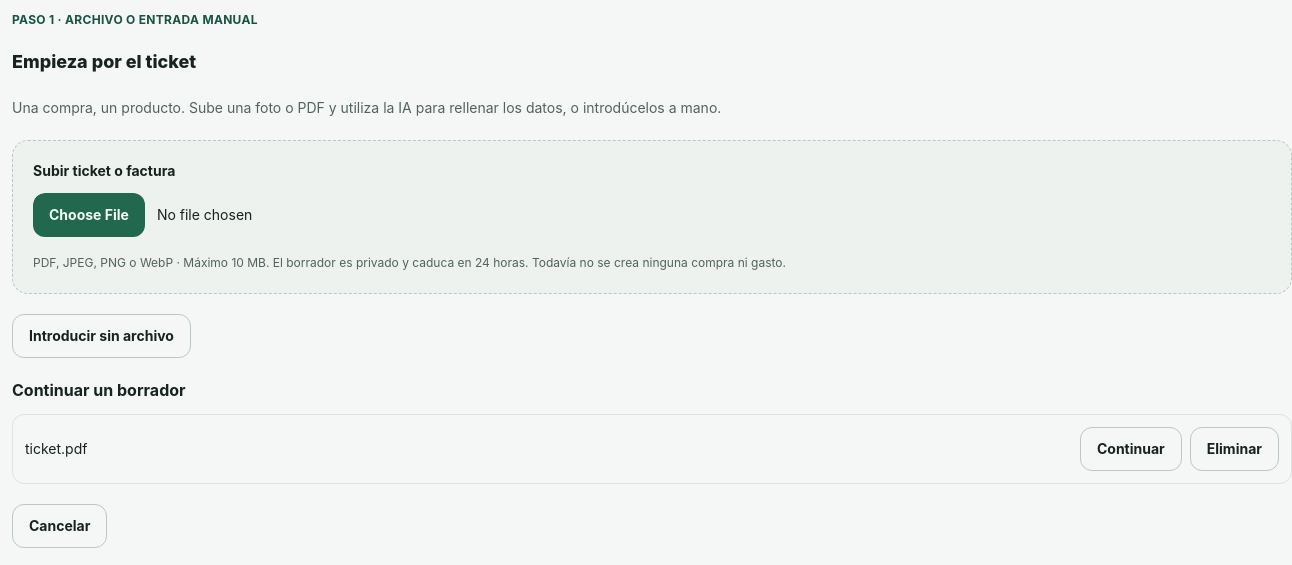
Test: PurchaseCreateFlow › resumes a previous successful analysis without paying for another analysis
Click the button named "Continuar ticket.pdf": (1131, 449) [1080,427,1182,471]
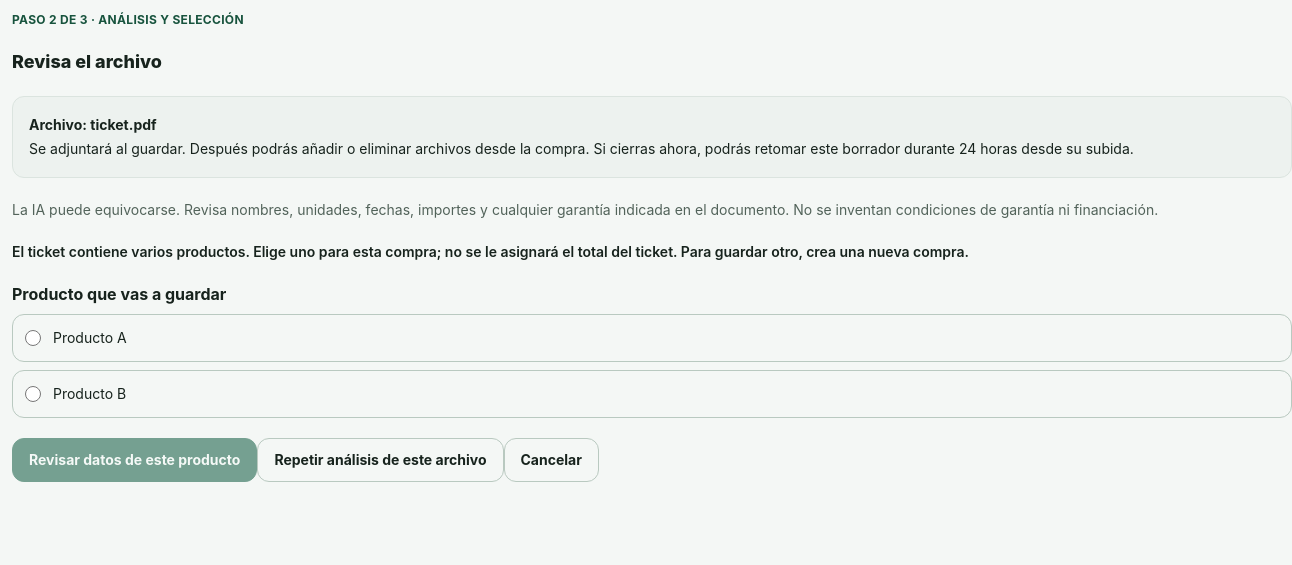
Check: the radio button labelled "Producto A" is shown, box [25,330,41,346]
